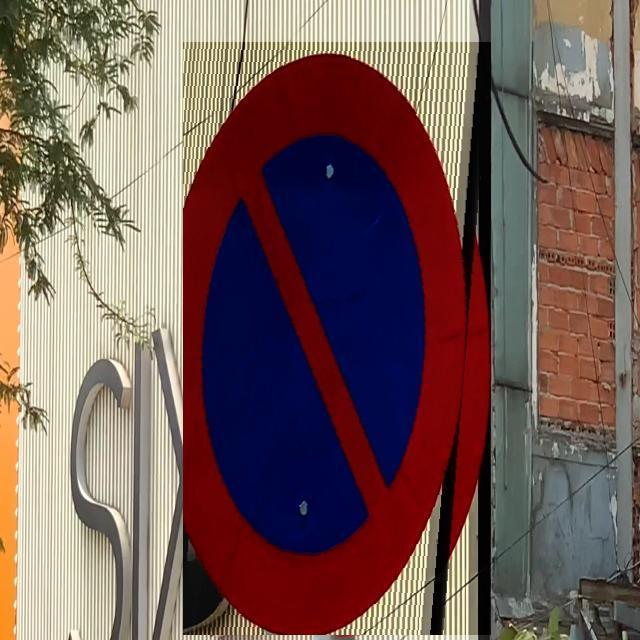P-131a: (183, 42, 491, 635)
